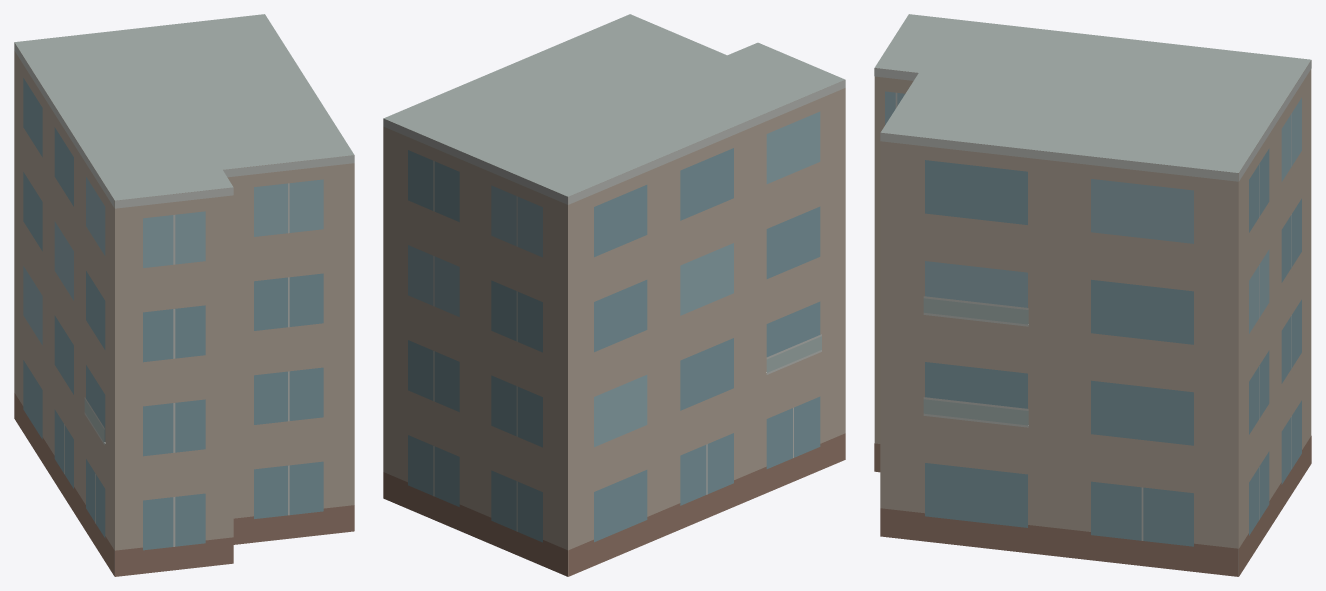
File: survey-upis-32831614.glb
The picture shows the model from 3 angles, left to right: view 1: azimuth 30°, elevation 25°; view 2: azimuth 150°, elevation 25°; view 3: azimuth 270°, elevation 25°; orthographic projection. The views are drawn at different scales.
Visible parts, largest first — view 1: survey-upis-32831614.tmp; view 2: survey-upis-32831614.tmp; view 3: survey-upis-32831614.tmp.
Part boxes in pixels (left/top/right/bottom): survey-upis-32831614.tmp: left=14, top=14, right=354, bottom=576; survey-upis-32831614.tmp: left=383, top=14, right=845, bottom=576; survey-upis-32831614.tmp: left=874, top=14, right=1311, bottom=576.
Bounding box in the file's own units: 9.64 × 11.4 × 11.19.
